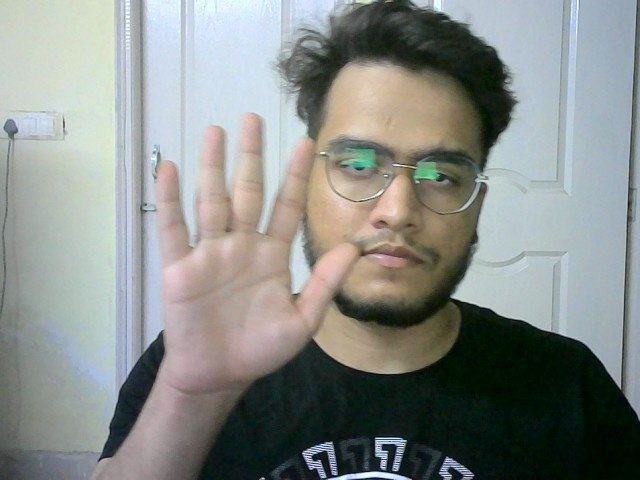Hello: (152, 107, 359, 387)
